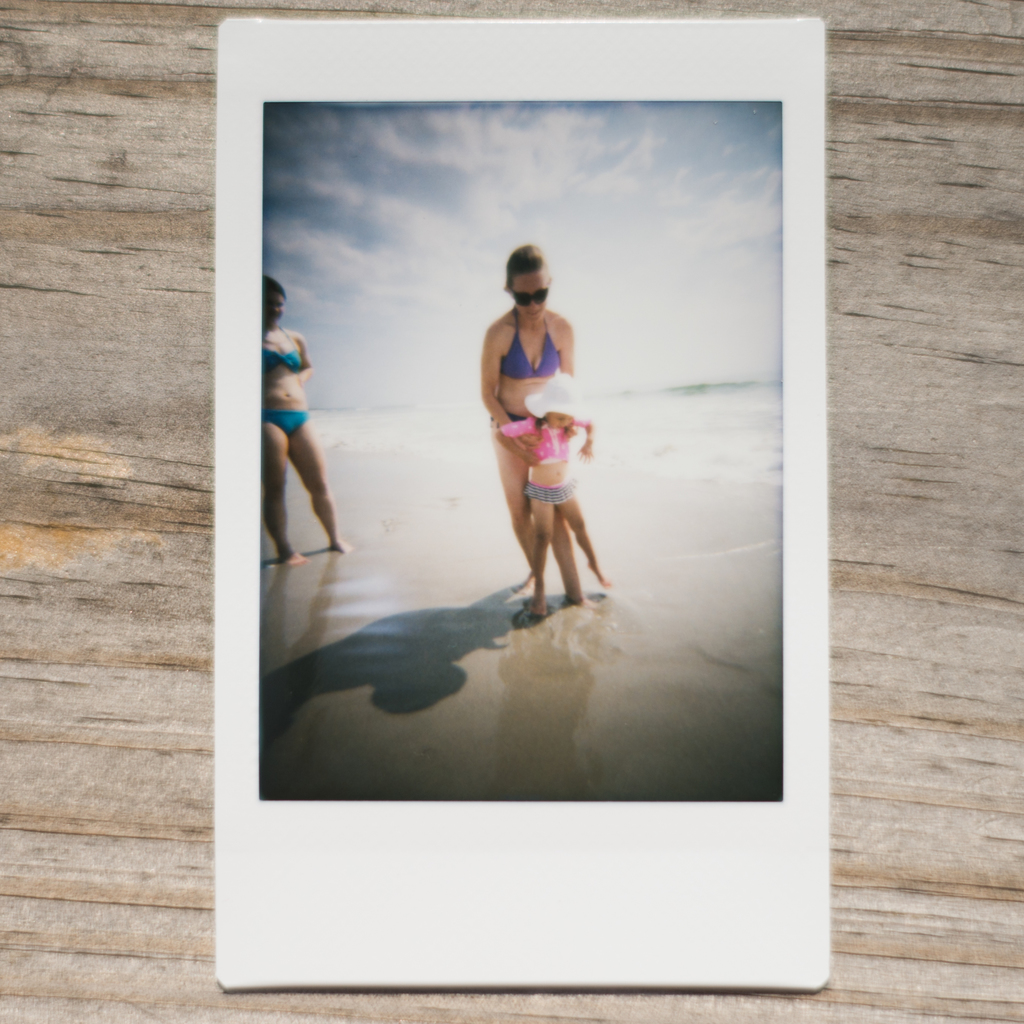Person: (496, 366, 616, 618)
